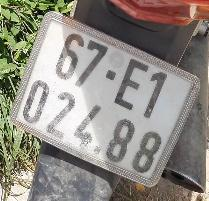0: (19, 77, 56, 128)
1: (135, 66, 176, 124)
2: (42, 88, 82, 142)
4: (69, 98, 110, 153)
6: (51, 30, 90, 84)
7: (70, 37, 112, 94)
8: (126, 124, 169, 177), (101, 112, 141, 166)
E: (112, 54, 153, 113)
